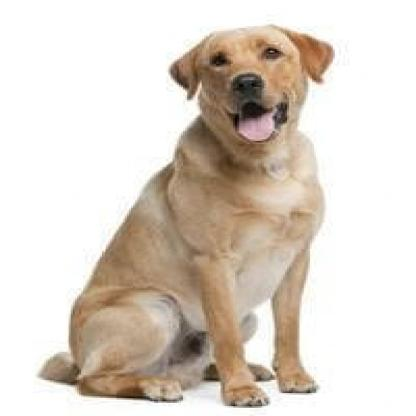dog: (29, 25, 337, 404)
